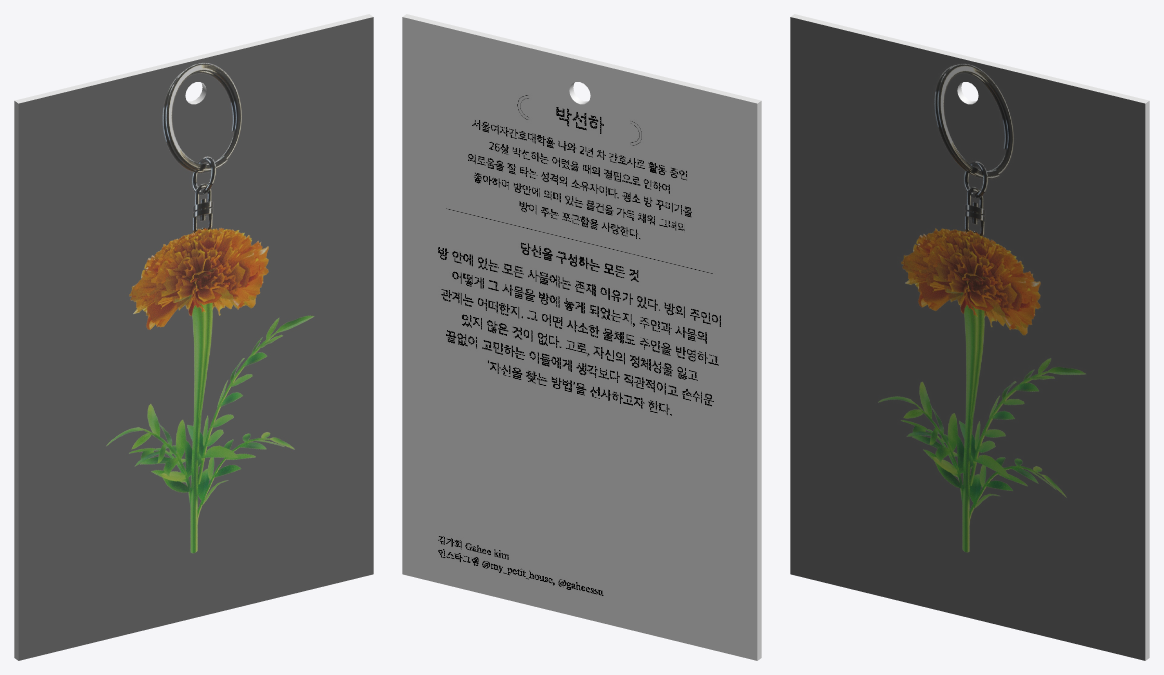
The model's file is leaflet.glb.
3 views of the same model, side by side, from view 1: azimuth 30°, elevation 25°; view 2: azimuth 150°, elevation 25°; view 3: azimuth 330°, elevation 25° (orthographic).
Parts seen in each view (by area): view 1: Boole-Mat.4, Boole-Mat.1; view 2: Boole-Mat.5, Boole-Mat.1; view 3: Boole-Mat.4, Boole-Mat.1.
Part boxes in pixels (x1,y1,x2,y2): Boole-Mat.4: [18, 17, 373, 660]; Boole-Mat.1: [14, 14, 372, 660]; Boole-Mat.5: [402, 17, 757, 660]; Boole-Mat.1: [403, 14, 761, 660]; Boole-Mat.4: [790, 17, 1145, 660]; Boole-Mat.1: [791, 14, 1149, 660].
Bounding box in the file's own units: 100 × 150 × 2.
3 materials, 2 textured.
